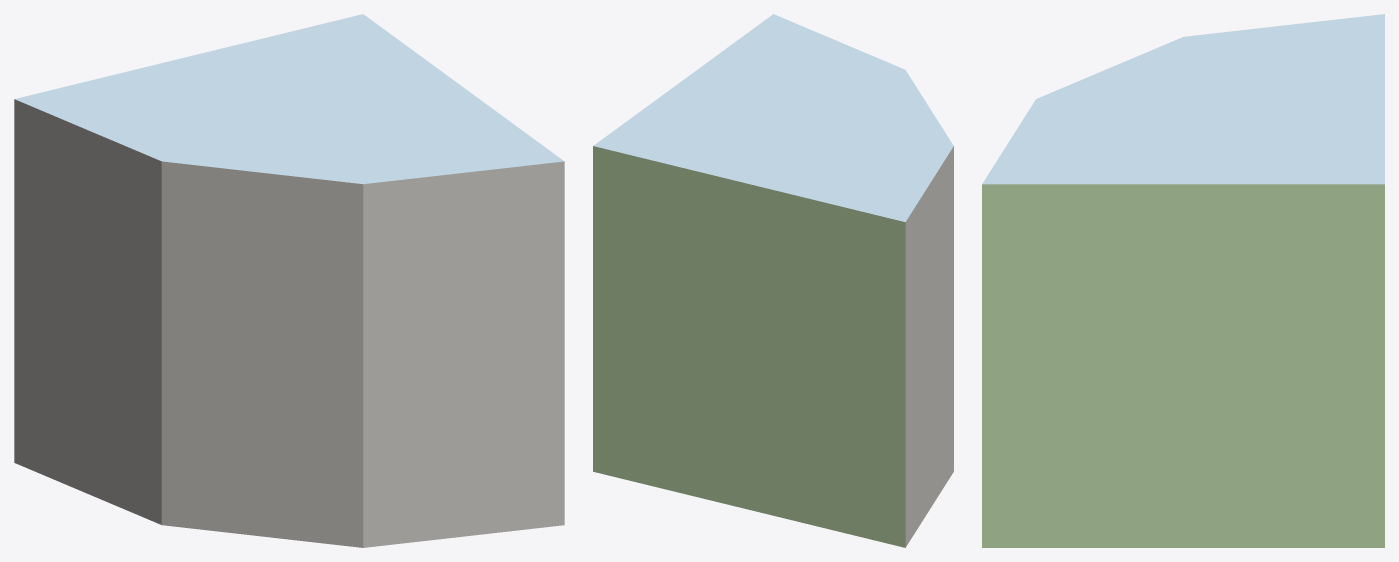
File: Wall_Curve_Outer_2x2_Mid.glb
3 renders of one model, left to right at view 1: azimuth 30°, elevation 25°; view 2: azimuth 150°, elevation 25°; view 3: azimuth 270°, elevation 25°, orthographic. The views are drawn at different scales.
Parts seen in each view (by area): view 1: Wall_Curve_Outer_2x2_Mid; view 2: Wall_Curve_Outer_2x2_Mid; view 3: Wall_Curve_Outer_2x2_Mid.
Part boxes in pixels (box(x1,y1,x2,y2)): Wall_Curve_Outer_2x2_Mid: box(14, 14, 564, 547); Wall_Curve_Outer_2x2_Mid: box(593, 14, 953, 547); Wall_Curve_Outer_2x2_Mid: box(982, 14, 1384, 547).
Bounding box in the file's own units: 100 × 100 × 100.
